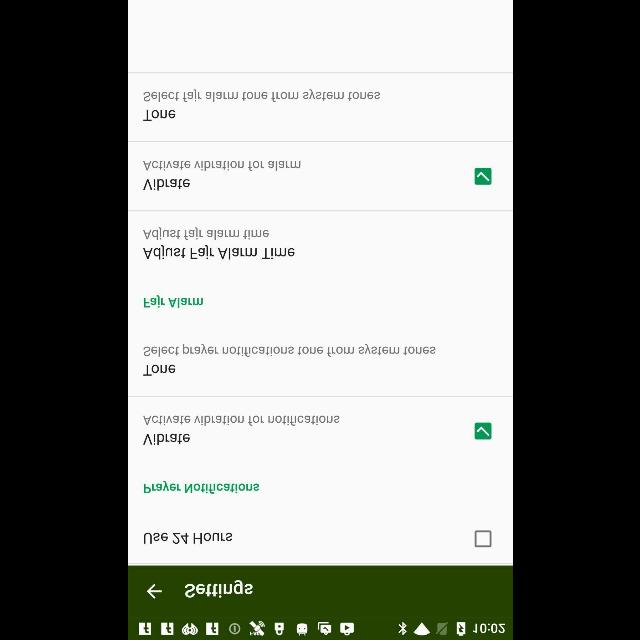checkbox: (474, 422, 491, 440), (474, 530, 491, 548), (474, 168, 491, 185)
icon: (146, 584, 162, 598)
text: (143, 344, 435, 356), (143, 90, 379, 102), (142, 244, 294, 260), (143, 415, 339, 425), (142, 227, 268, 240), (143, 161, 300, 171), (144, 481, 258, 494), (184, 580, 252, 598), (143, 532, 231, 544), (144, 294, 202, 308), (143, 179, 190, 191), (143, 433, 190, 445), (143, 110, 175, 122), (143, 364, 175, 376)
toolbar: (128, 566, 512, 616)
uppertaskbar: (128, 617, 512, 639)
